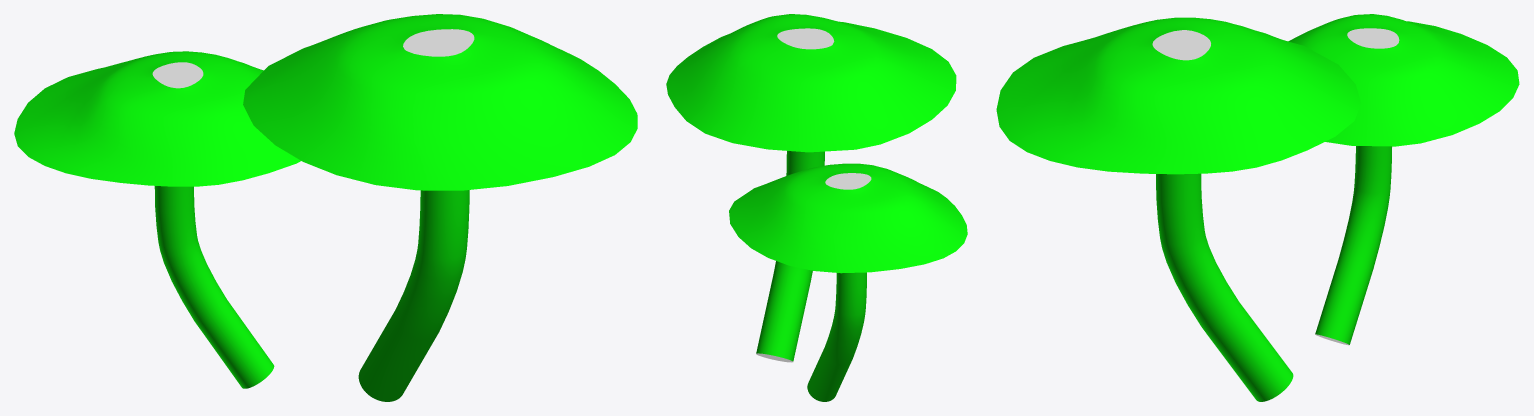
The model's file is Pilzgruppe 1.fbx.
The picture shows the model from 3 angles, left to right: view 1: azimuth 30°, elevation 25°; view 2: azimuth 150°, elevation 25°; view 3: azimuth 270°, elevation 25°; orthographic projection. The views are drawn at different scales.
Parts seen in each view (by area): view 1: Kappe_2, Kappe, Stiel_2, Stiel, Deckfläche_1_3, Deckfläche_1; view 2: Kappe_2, Kappe, Stiel_2, Stiel, Deckfläche_1_3, Deckfläche_1; view 3: Kappe_2, Kappe, Stiel_2, Stiel, Deckfläche_1_3, Deckfläche_1.
Part boxes in pixels (<box>): Kappe_2: <box>243,14,637,190</box>; Kappe: <box>14,51,300,186</box>; Stiel_2: <box>358,190,469,401</box>; Stiel: <box>154,186,274,388</box>; Deckfläche_1_3: <box>403,29,474,56</box>; Deckfläche_1: <box>152,62,203,88</box>; Kappe_2: <box>666,14,956,152</box>; Kappe: <box>729,163,967,273</box>; Stiel_2: <box>756,151,824,361</box>; Stiel: <box>807,272,866,401</box>; Deckfläche_1_3: <box>777,28,834,49</box>; Deckfläche_1: <box>825,173,871,189</box>; Kappe_2: <box>996,17,1361,174</box>; Kappe: <box>1288,14,1519,146</box>; Stiel_2: <box>1156,173,1293,401</box>; Stiel: <box>1315,146,1392,344</box>; Deckfläche_1_3: <box>1152,30,1210,60</box>; Deckfläche_1: <box>1347,28,1399,48</box>.
Bounding box in the file's own units: 86.26 × 69.38 × 92.29.
